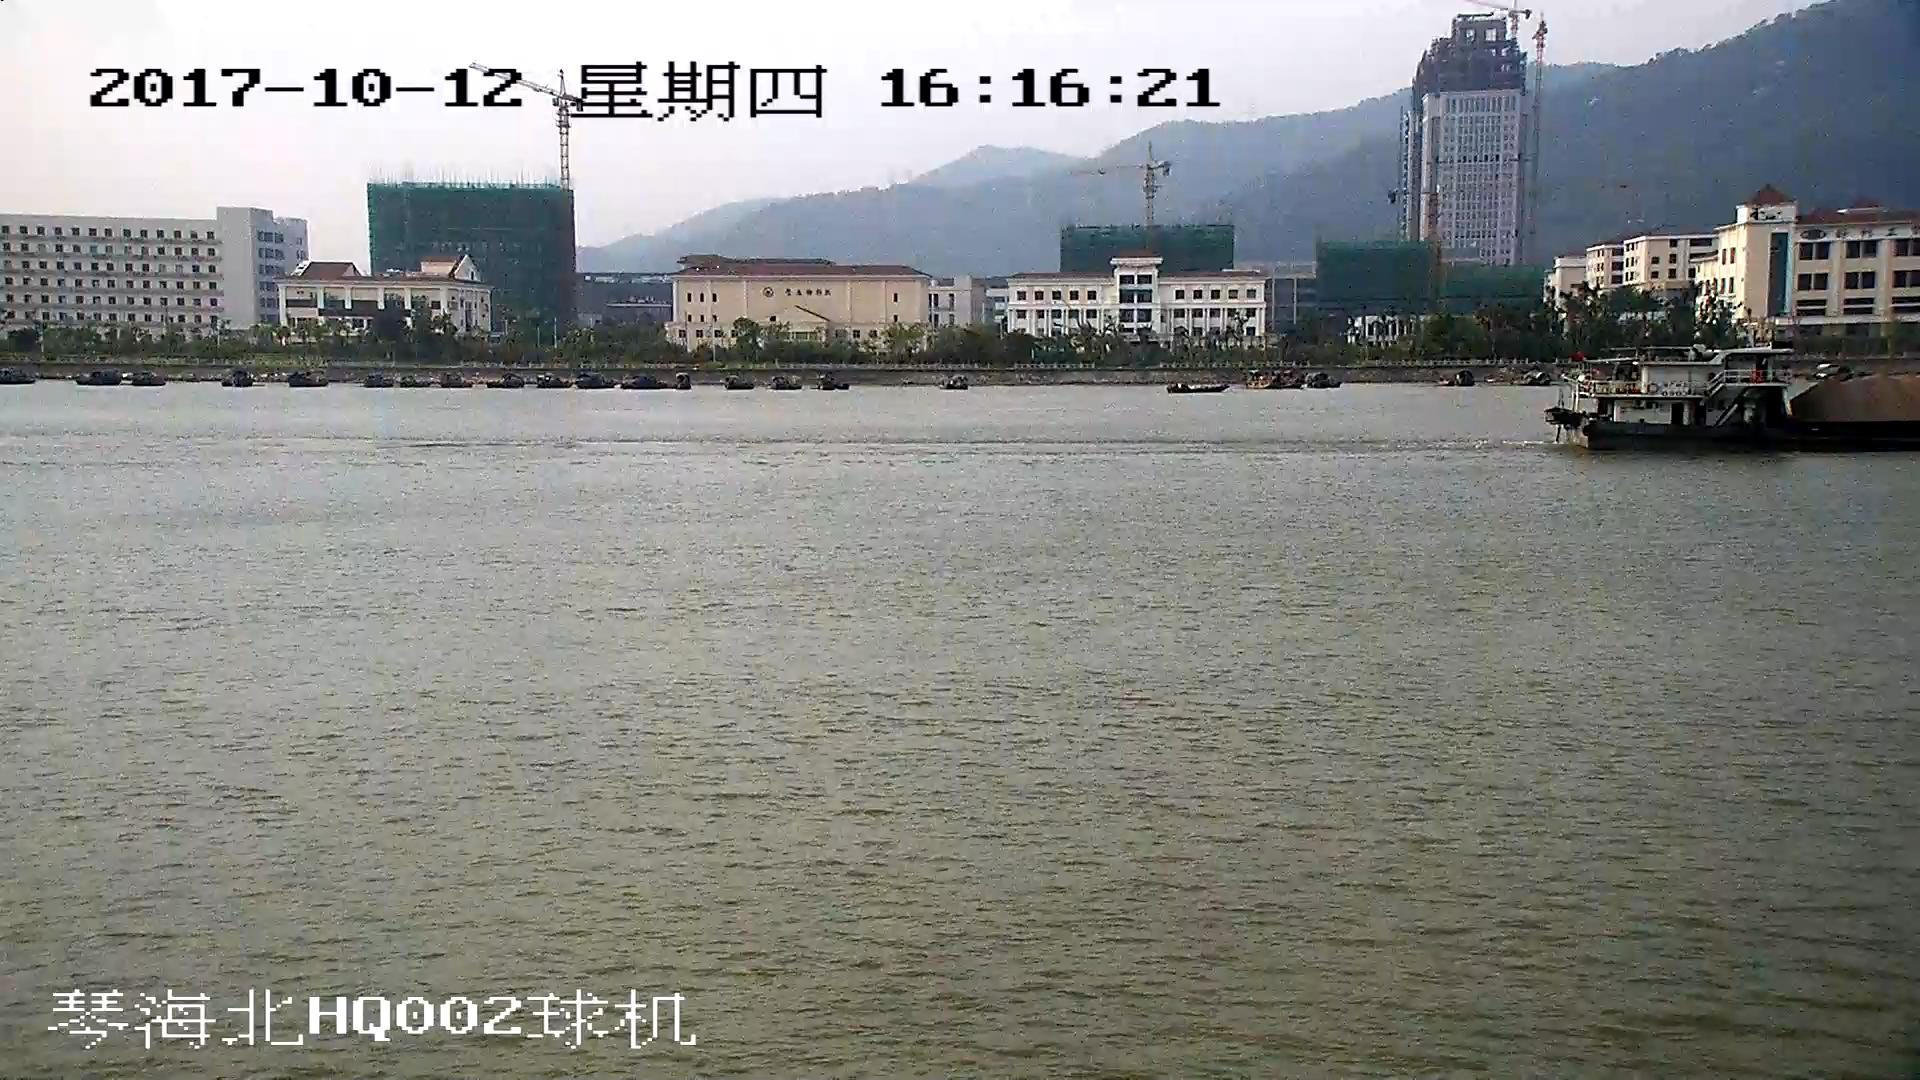ore carrier: (1548, 351, 1920, 451)
